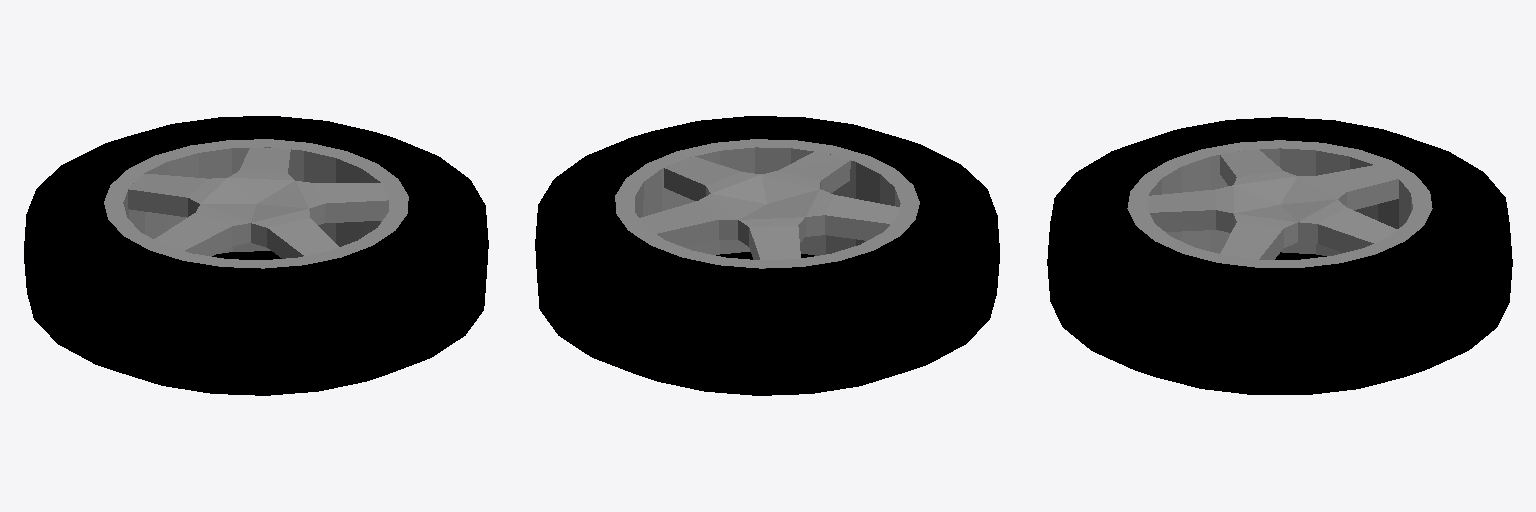
The model's file is kolo.obj.
3 renders of one model, left to right at view 1: azimuth 30°, elevation 25°; view 2: azimuth 150°, elevation 25°; view 3: azimuth 270°, elevation 25°, orthographic.
Visible parts, largest first — view 1: FL_TIRES_FL_TIRES, FL_WHEEL_FL_WHEEL; view 2: FL_TIRES_FL_TIRES, FL_WHEEL_FL_WHEEL; view 3: FL_TIRES_FL_TIRES, FL_WHEEL_FL_WHEEL.
Part boxes in pixels (x1,y1,x2,y2): FL_TIRES_FL_TIRES: (24, 116, 488, 395); FL_WHEEL_FL_WHEEL: (104, 139, 408, 268); FL_TIRES_FL_TIRES: (535, 116, 999, 395); FL_WHEEL_FL_WHEEL: (615, 139, 919, 268); FL_TIRES_FL_TIRES: (1047, 117, 1512, 394); FL_WHEEL_FL_WHEEL: (1127, 140, 1432, 267).
Size of the model in its own units: 0.7139 by 0.1954 by 0.7154.